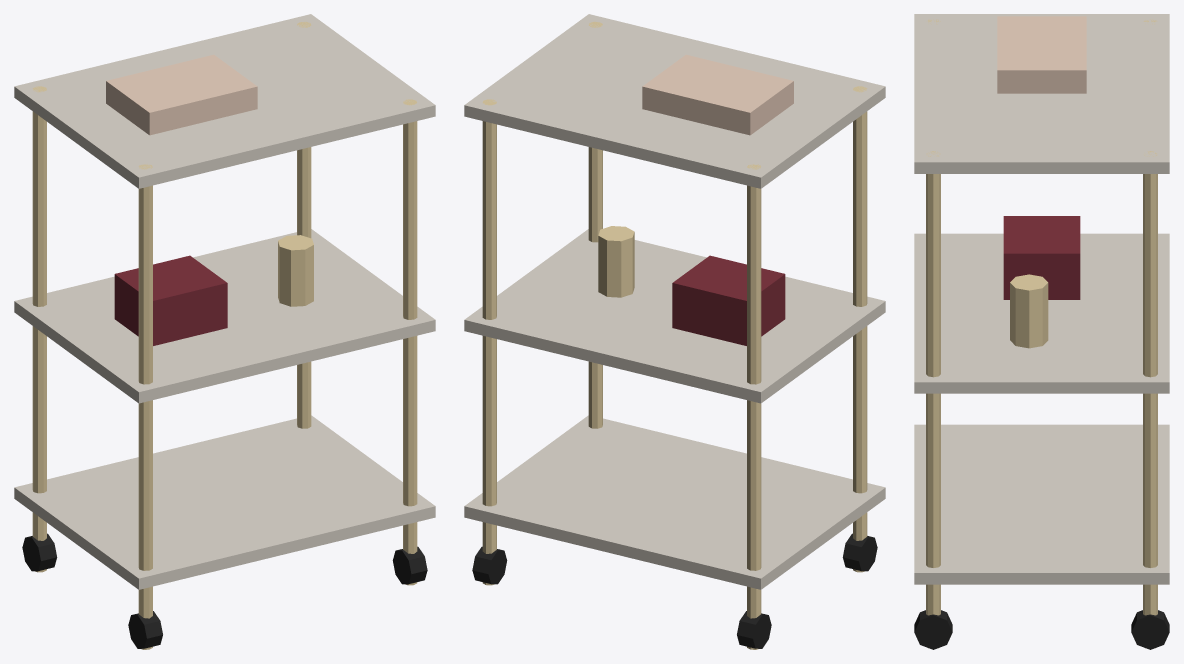
Rendered from carrinho_auxiliar.glb.
The picture shows the model from 3 angles, left to right: view 1: azimuth 30°, elevation 25°; view 2: azimuth 150°, elevation 25°; view 3: azimuth 270°, elevation 25°; orthographic projection. The views are drawn at different scales.
Parts seen in each view (by area): view 1: carrinho_auxiliar; view 2: carrinho_auxiliar; view 3: carrinho_auxiliar.
Part boxes in pixels (x1,y1,x2,y2): carrinho_auxiliar: (14, 14, 435, 649); carrinho_auxiliar: (464, 14, 885, 649); carrinho_auxiliar: (914, 14, 1169, 649).
Size of the model in its own units: 0.55 by 0.89 by 0.4.
